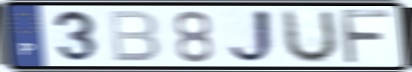3: (49, 8, 103, 64)
8: (172, 9, 215, 64)
B: (106, 9, 162, 64)
F: (338, 7, 394, 66)
J: (226, 7, 280, 66)
U: (281, 7, 340, 65)
